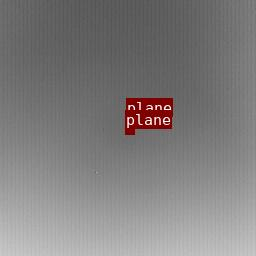plane: (126, 117, 142, 124), (125, 129, 134, 134)
